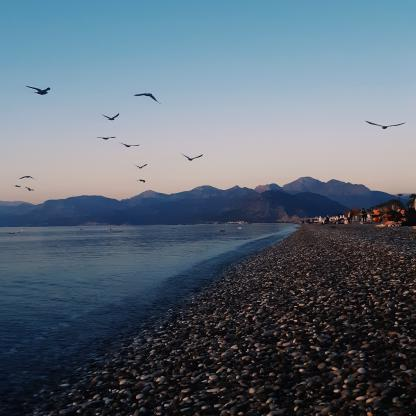bird: (365, 120, 406, 130), (134, 93, 162, 104), (26, 86, 51, 96), (180, 152, 203, 161), (102, 113, 119, 121), (118, 142, 140, 148), (18, 176, 38, 181), (96, 137, 116, 140), (134, 164, 148, 168), (136, 179, 146, 183), (25, 187, 34, 191), (14, 185, 20, 188)
